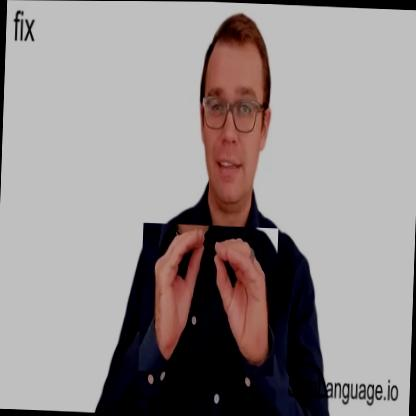Fix: (139, 222, 279, 376)
